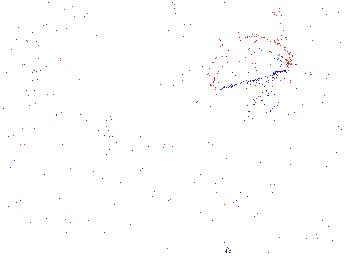moon jellyfish: (277, 1, 346, 79), (207, 35, 293, 91), (1, 1, 89, 46)
